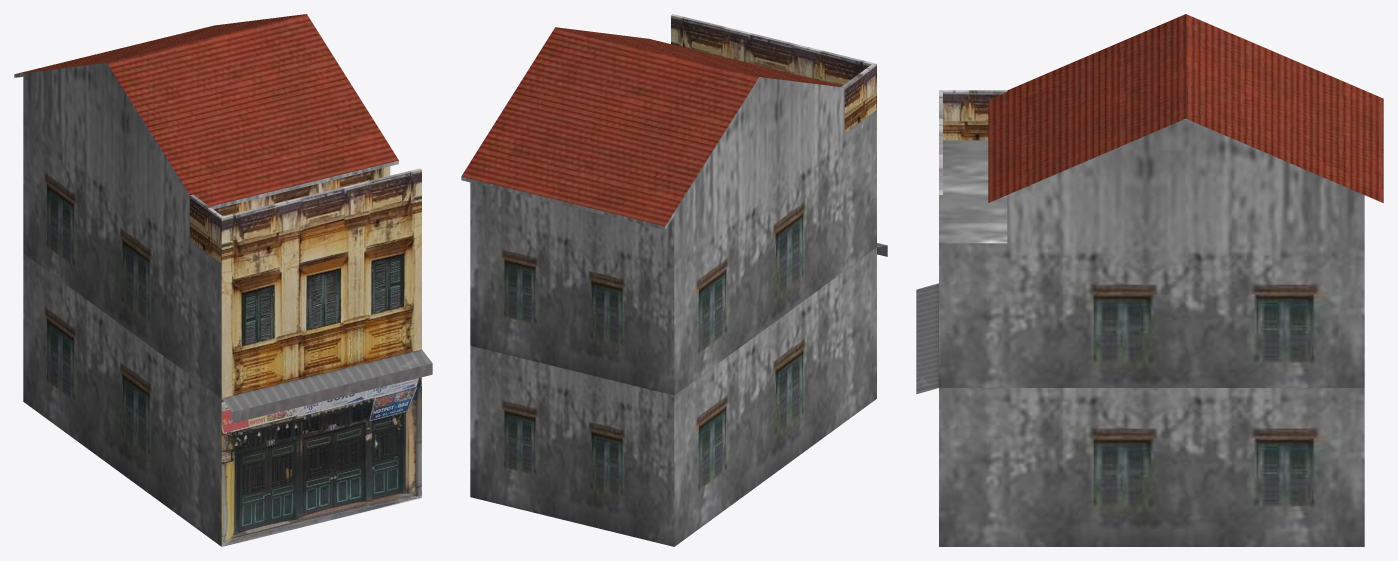
The picture shows the model from 3 angles, left to right: view 1: azimuth 30°, elevation 25°; view 2: azimuth 150°, elevation 25°; view 3: azimuth 270°, elevation 25°; orthographic projection. The views are drawn at different scales.
Parts seen in each view (by area): view 1: HN986_XuXu_Choe_Huy; view 2: HN986_XuXu_Choe_Huy; view 3: HN986_XuXu_Choe_Huy.
Part boxes in pixels (x1,y1,x2,y2): HN986_XuXu_Choe_Huy: [14, 14, 432, 546]; HN986_XuXu_Choe_Huy: [461, 14, 887, 546]; HN986_XuXu_Choe_Huy: [916, 14, 1383, 546].
Bounding box in the file's own units: 4.66 × 8.89 × 8.79.
1 material, 1 textured.
